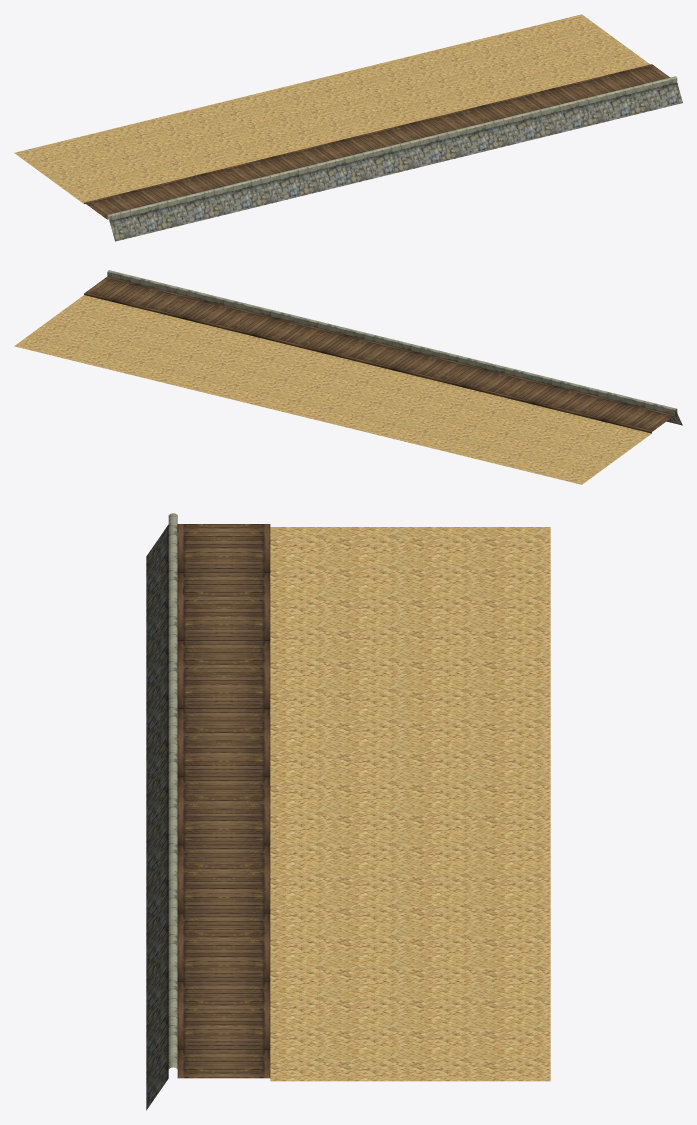
The model's file is Dock_1x3_NoSand.FBX.
3 views of the same model, one above another, from view 1: azimuth 30°, elevation 25°; view 2: azimuth 150°, elevation 25°; view 3: azimuth 270°, elevation 25° (orthographic). The views are drawn at different scales.
Parts seen in each view (by area): view 1: Dock_1x3_NoSand; view 2: Dock_1x3_NoSand; view 3: Dock_1x3_NoSand.
Part boxes in pixels (x1=…): Dock_1x3_NoSand: x1=14, y1=14, x2=682, y2=241; Dock_1x3_NoSand: x1=14, y1=270, x2=682, y2=484; Dock_1x3_NoSand: x1=146, y1=513, x2=550, y2=1110.
Size of the model in its own units: 86.64 by 26.72 by 3.16.
